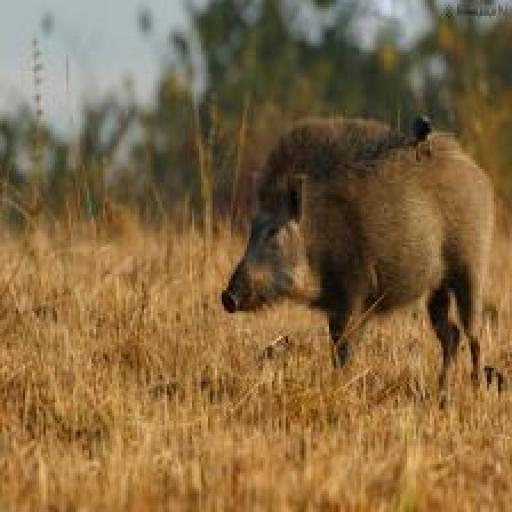Pig: (222, 119, 498, 384)
